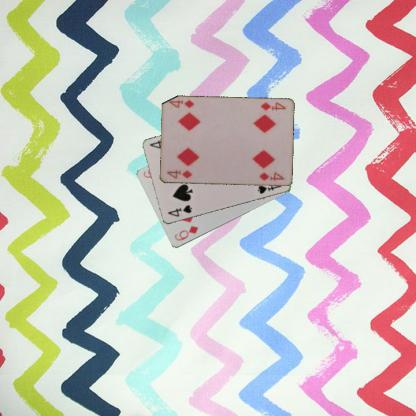4d: (257, 100, 287, 112), (164, 168, 193, 180)
4s: (165, 203, 193, 218)
6d: (172, 224, 200, 242)
